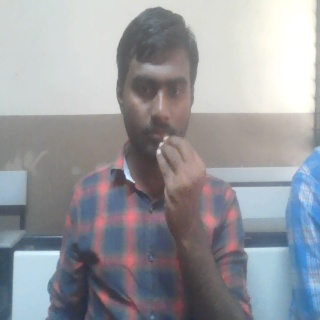Food: (153, 134, 208, 241)
